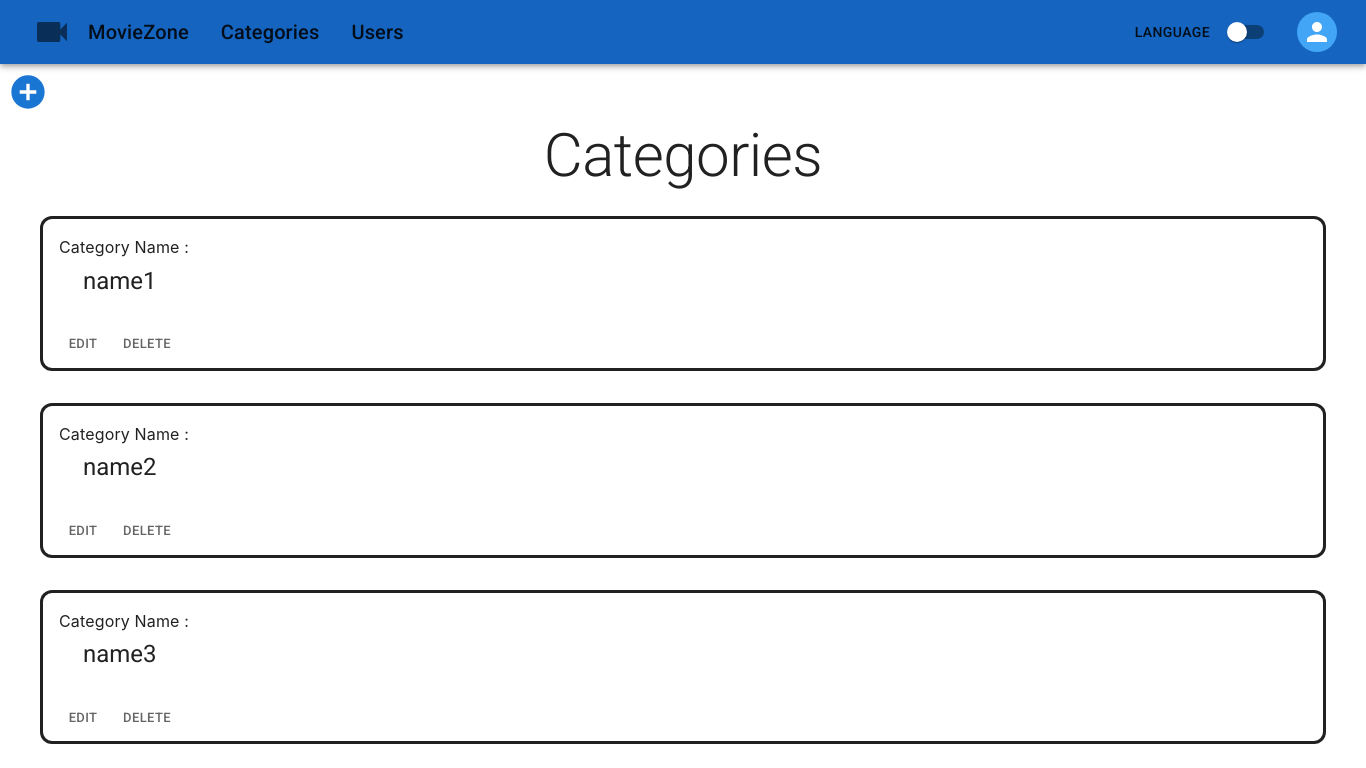
Test: category edit modal opens and shows correctly
The width and height of the screenshot is (1366, 768).
Click the button "Edit" below "name1" at (83, 344), box [51,329,115,360]
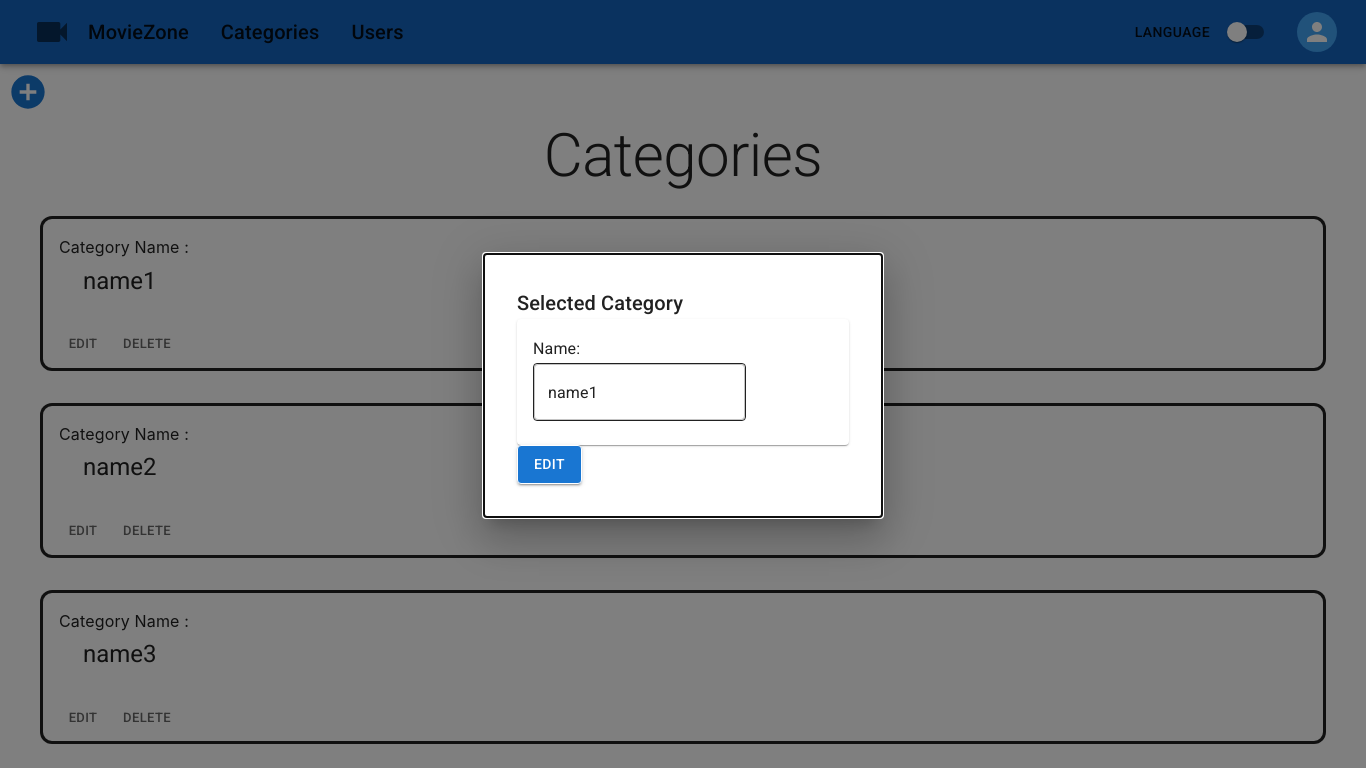
Expected: the field with test id "category-edit-modal-name" is shown, [534,364,745,420]
Expected: the button "Edit" is shown, [517,445,582,484]
